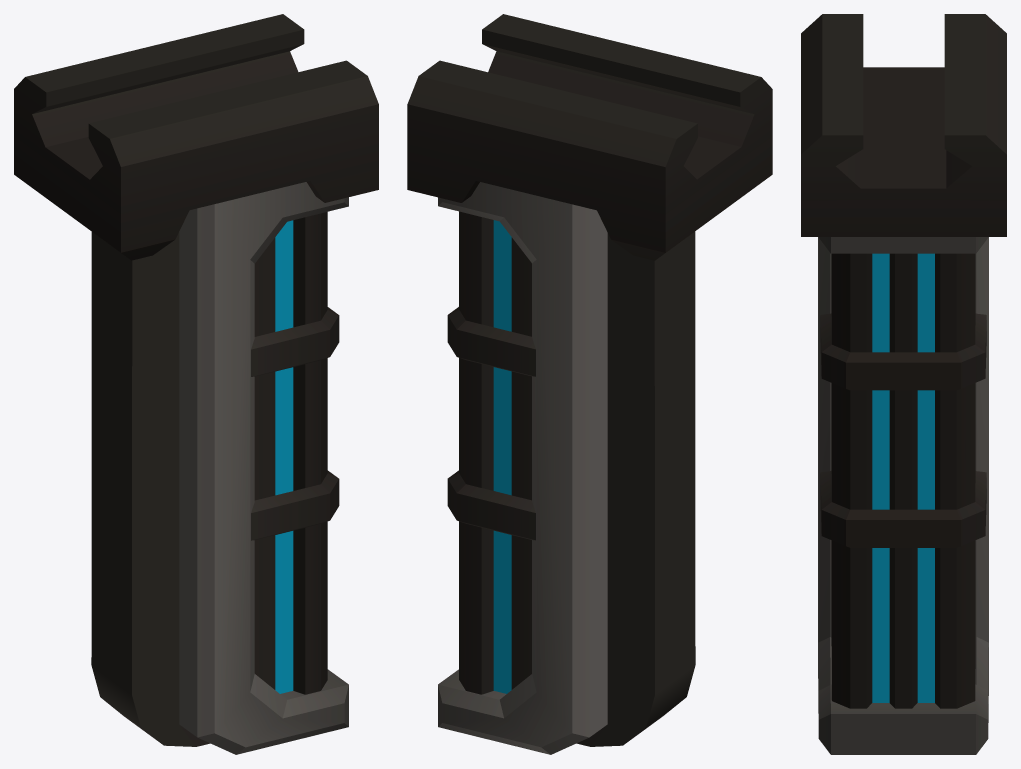
Rendered from Foregrip_Vertical_06.fbx.
3 renders of one model, left to right at view 1: azimuth 30°, elevation 25°; view 2: azimuth 150°, elevation 25°; view 3: azimuth 270°, elevation 25°, orthographic. The views are drawn at different scales.
Parts seen in each view (by area): view 1: Foregrip_Vertical_06; view 2: Foregrip_Vertical_06; view 3: Foregrip_Vertical_06.
Boxes of the visible parts, x1,y1,x2,y2 form: Foregrip_Vertical_06: [14, 14, 378, 754]; Foregrip_Vertical_06: [407, 14, 772, 754]; Foregrip_Vertical_06: [801, 14, 1006, 754].
Size of the model in its own units: 5.46 by 13.15 by 3.91.
